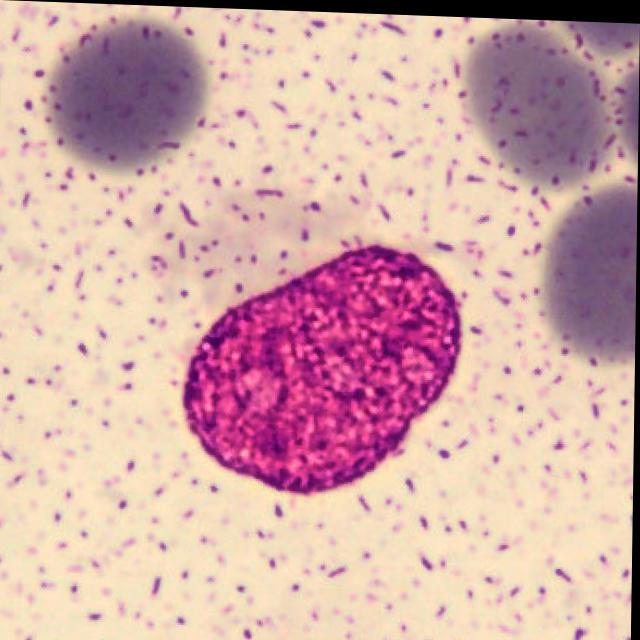Restos celulares: (180, 239, 465, 491)
